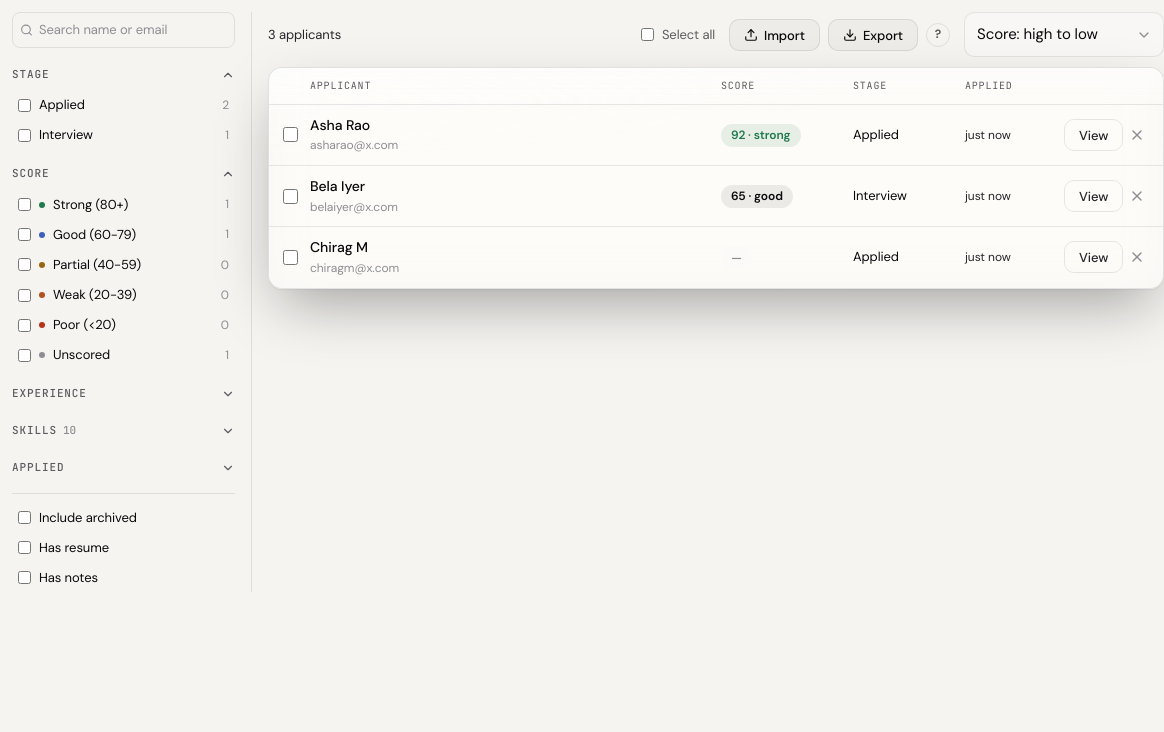
Test: RankedTab sidebar redesign › empty state appears when nothing matches, with a working clear link
This screenshot has width=1164, height=732.
Check: the text "Asha Rao" is shown, box [310,115,370,136]
In the search field labelled "Search name or email": (124, 30) [12,12,235,48], type "zzz-no-match"
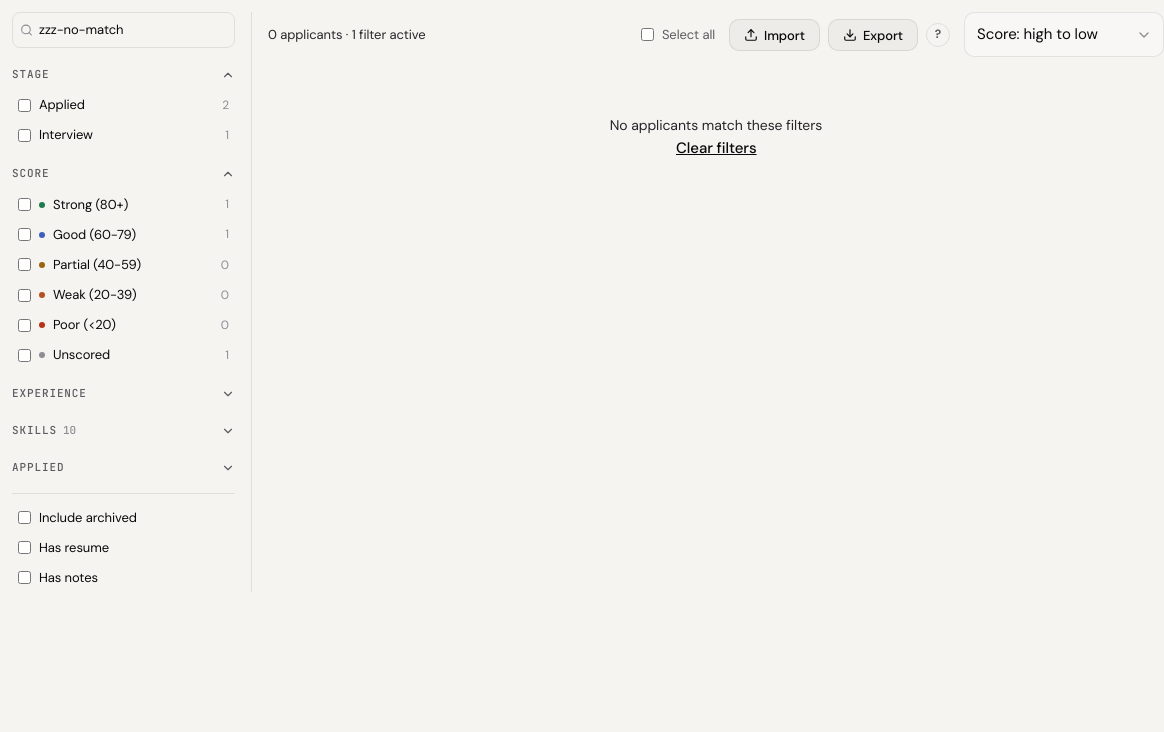
Check: the text "No applicants match these filters" is shown, box [610,116,822,134]
Click the button "Clear filters": (716, 148) [675,140,757,157]
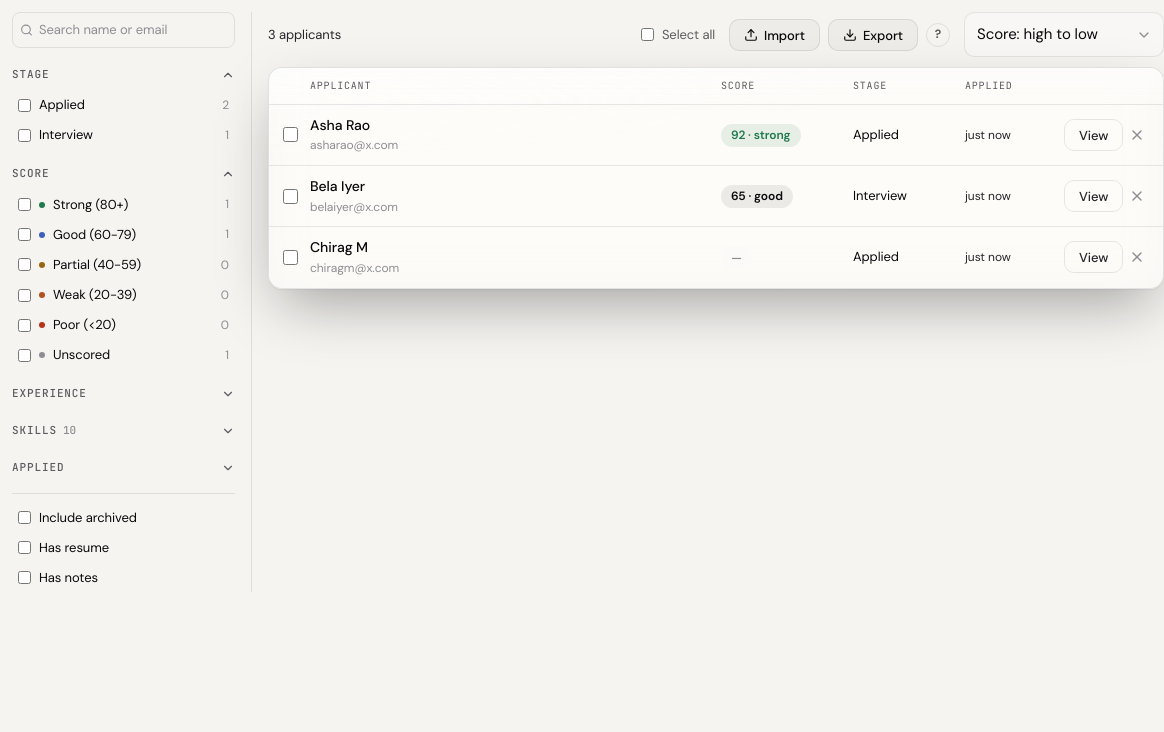
Check: the text "Asha Rao" is shown, box [310,115,370,136]
